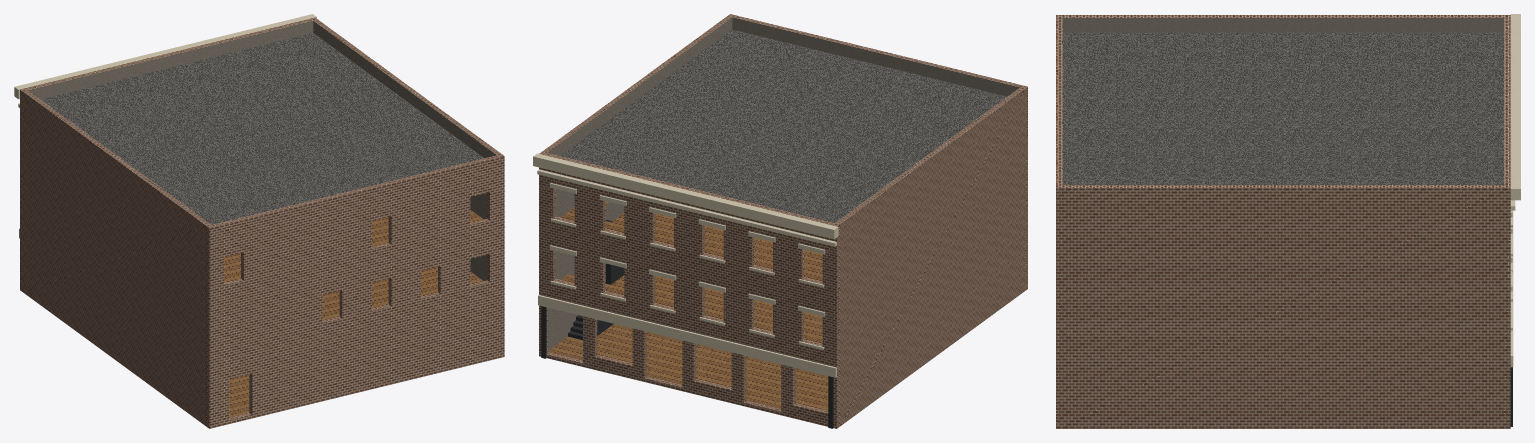
File: main_street_brown_18m_3st.glb
3 views of the same model, side by side, from view 1: azimuth 30°, elevation 25°; view 2: azimuth 150°, elevation 25°; view 3: azimuth 270°, elevation 25° (orthographic). The views are drawn at different scales.
Visible parts, largest first — view 1: main_street_brown_18m_3st; view 2: main_street_brown_18m_3st; view 3: main_street_brown_18m_3st.
Boxes of the visible parts, left/top/right/bottom form: main_street_brown_18m_3st: left=14, top=14, right=504, bottom=428; main_street_brown_18m_3st: left=533, top=14, right=1027, bottom=428; main_street_brown_18m_3st: left=1056, top=14, right=1520, bottom=428.
Bounding box in the file's own units: 18.2 × 11.7 × 20.45.
6 materials, 6 textured.
